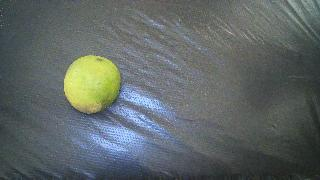DESECHO: (63, 55, 120, 114)
